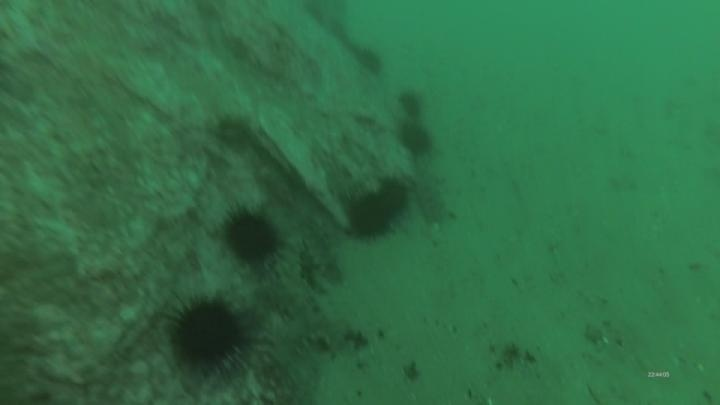echinus: (164, 292, 254, 378), (218, 203, 286, 269), (341, 187, 400, 243), (374, 176, 412, 219), (396, 120, 436, 159), (351, 44, 386, 77), (396, 88, 427, 120)
holothurian: (297, 223, 344, 295), (415, 168, 453, 228)
